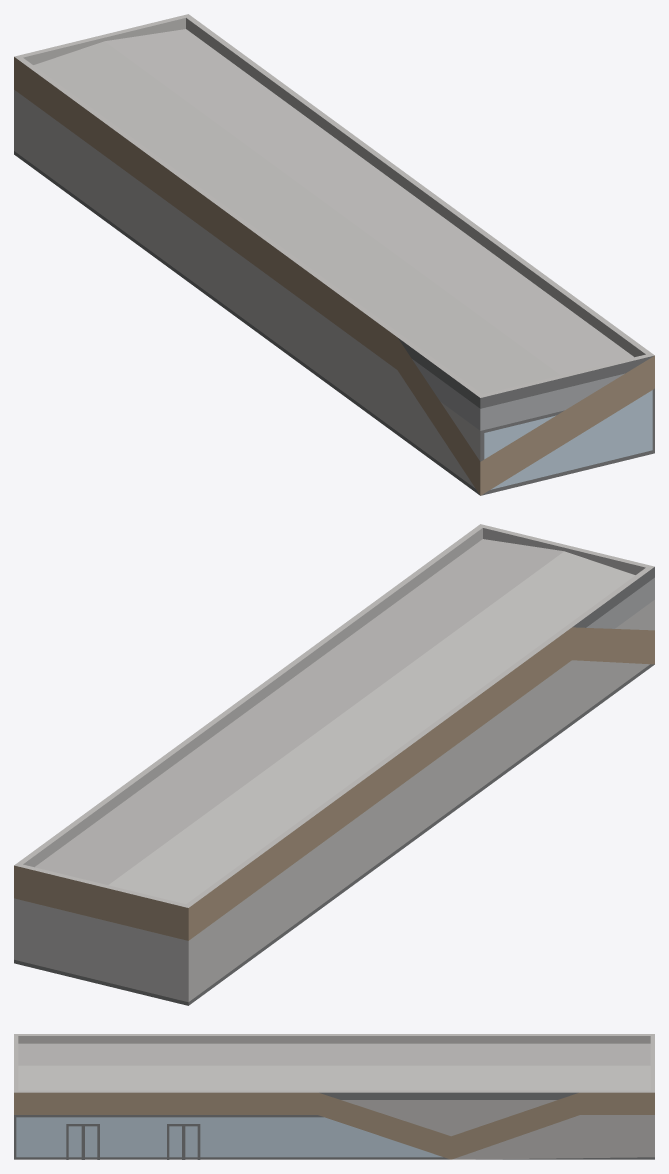
File: omskheartavgsportclublod.glb
The picture shows the model from 3 angles, top to bottom: view 1: azimuth 30°, elevation 25°; view 2: azimuth 150°, elevation 25°; view 3: azimuth 270°, elevation 25°; orthographic projection. The views are drawn at different scales.
Visible parts, largest first — view 1: omskheartavgsportclublod; view 2: omskheartavgsportclublod; view 3: omskheartavgsportclublod.
Part boxes in pixels (bbox=[...]): omskheartavgsportclublod: bbox=[14, 14, 654, 495]; omskheartavgsportclublod: bbox=[14, 524, 654, 1005]; omskheartavgsportclublod: bbox=[14, 1034, 654, 1159].
Bounding box in the file's own units: 10.81 × 5.78 × 49.91.
Materials: 1 (1 with a texture image).
